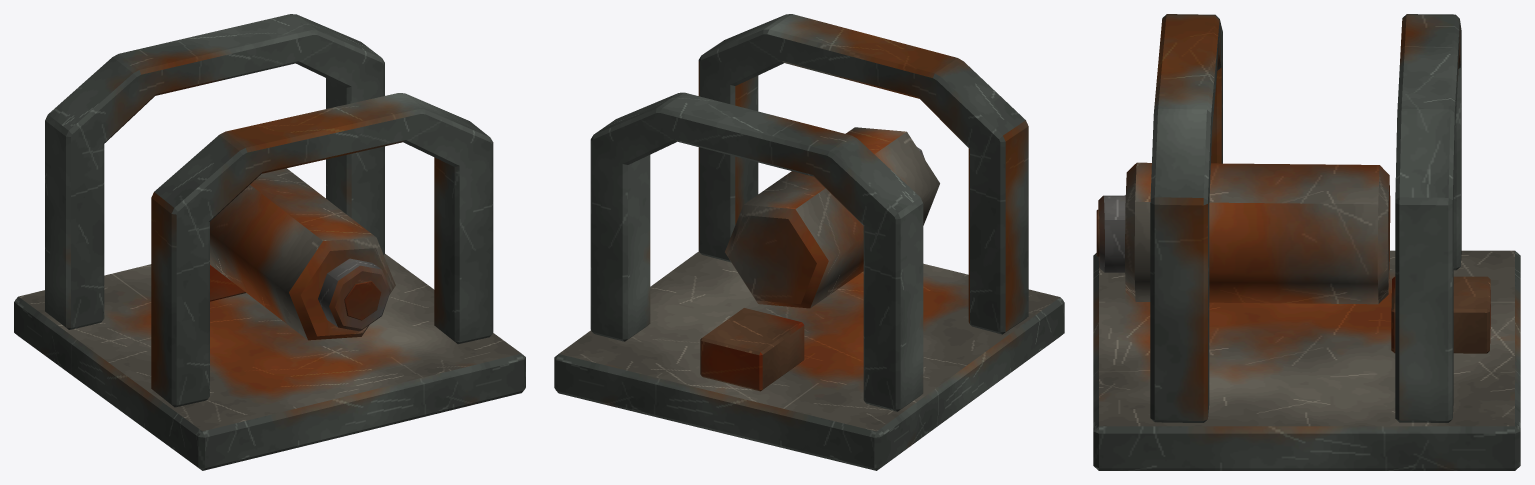
Rendered from R4X_WeaponDurabilityBooster_LOD1.glb.
3 views of the same model, side by side, from view 1: azimuth 30°, elevation 25°; view 2: azimuth 150°, elevation 25°; view 3: azimuth 270°, elevation 25° (orthographic). The views are drawn at different scales.
Visible parts, largest first — view 1: R4X_WeaponDurabilityBooster_LOD1; view 2: R4X_WeaponDurabilityBooster_LOD1; view 3: R4X_WeaponDurabilityBooster_LOD1.
Boxes of the visible parts, bbox=[...] form: R4X_WeaponDurabilityBooster_LOD1: bbox=[14, 14, 525, 470]; R4X_WeaponDurabilityBooster_LOD1: bbox=[554, 14, 1064, 470]; R4X_WeaponDurabilityBooster_LOD1: bbox=[1093, 14, 1520, 470].
Bounding box in the file's own units: 0.52 × 0.43 × 0.52.
Materials: 5 (4 with a texture image).
